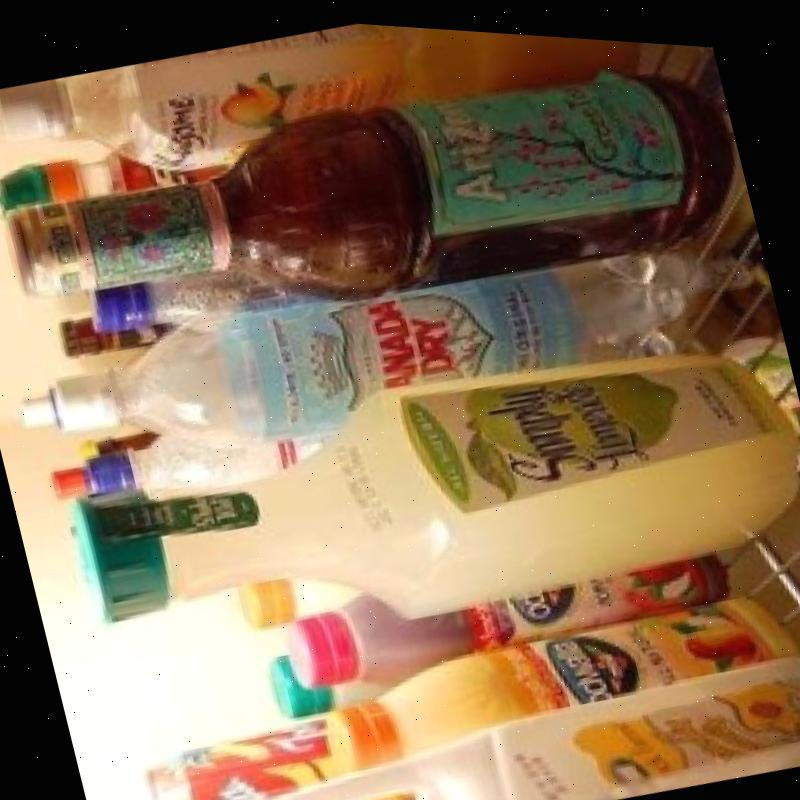botella: (40, 183, 709, 508), (79, 405, 317, 527), (86, 234, 280, 348)
